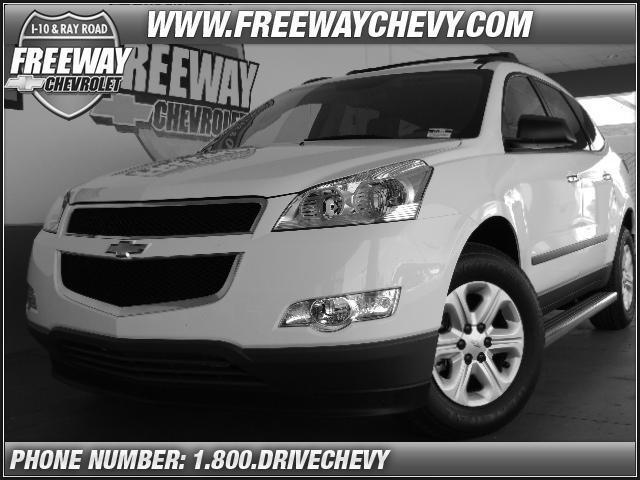car: (21, 51, 639, 445)
